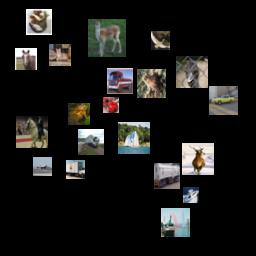airplane: (33, 157, 52, 176)
automobile: (209, 86, 238, 115), (103, 97, 119, 113)
bird: (176, 56, 208, 88), (151, 31, 170, 50)
cat: (26, 9, 52, 35), (49, 44, 71, 66)
deer: (88, 19, 126, 57), (182, 143, 214, 175)
frog: (137, 69, 166, 98), (68, 103, 90, 125)
ship: (118, 122, 150, 154), (161, 208, 190, 237), (183, 187, 199, 203)
truck: (78, 129, 104, 155), (154, 163, 180, 189), (107, 68, 133, 94), (66, 160, 85, 179)
